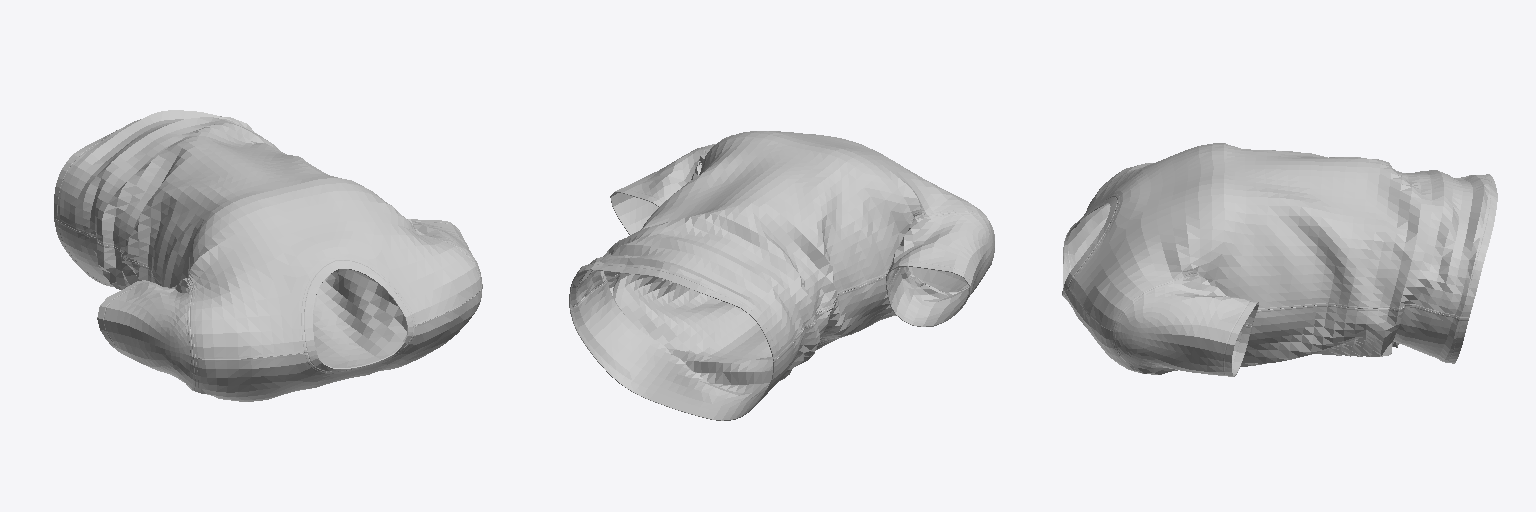
File: tshirt_down.obj
3 renders of one model, left to right at view 1: azimuth 30°, elevation 25°; view 2: azimuth 150°, elevation 25°; view 3: azimuth 270°, elevation 25°, orthographic.
Visible parts, largest first — view 1: uploads_files_605564_t+shirts.002; view 2: uploads_files_605564_t+shirts.002; view 3: uploads_files_605564_t+shirts.002.
Boxes of the visible parts, box(x1,y1,x2,y2) form: uploads_files_605564_t+shirts.002: box(54, 110, 482, 401); uploads_files_605564_t+shirts.002: box(569, 131, 994, 420); uploads_files_605564_t+shirts.002: box(1062, 143, 1497, 376).
Size of the model in its own units: 0.687 by 0.3237 by 0.7175.